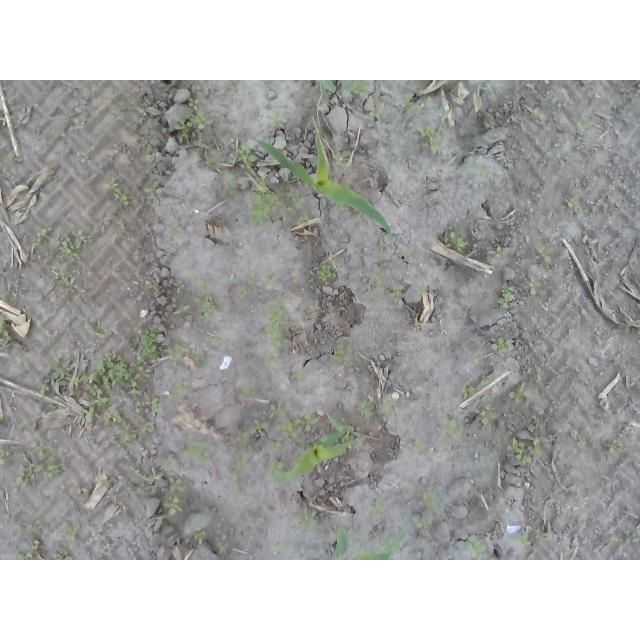Maize: (246, 132, 395, 236), (273, 415, 351, 485), (332, 526, 409, 560), (314, 80, 338, 92)
Weeds: (84, 348, 160, 444), (247, 174, 311, 234), (16, 439, 66, 487), (172, 271, 219, 321), (268, 401, 313, 452), (265, 290, 292, 367), (365, 263, 408, 305), (173, 96, 208, 144), (127, 321, 164, 365), (48, 354, 84, 394), (503, 432, 546, 464), (16, 517, 44, 560), (55, 230, 90, 262), (162, 477, 185, 523), (235, 419, 269, 446), (102, 174, 129, 207), (182, 437, 211, 466), (417, 125, 443, 156), (565, 118, 592, 146), (228, 454, 255, 482), (55, 269, 82, 296), (441, 230, 471, 254), (165, 341, 191, 368), (401, 93, 436, 113), (440, 418, 464, 447), (293, 506, 322, 530), (129, 463, 162, 482), (327, 342, 353, 366), (464, 533, 491, 556), (239, 142, 257, 176), (212, 517, 228, 554), (318, 255, 338, 282), (496, 279, 514, 309), (487, 335, 515, 354), (567, 197, 590, 220), (184, 527, 208, 549), (474, 404, 499, 425), (526, 271, 544, 297), (510, 381, 531, 403), (0, 313, 14, 345), (32, 223, 49, 249), (236, 381, 258, 401), (420, 491, 440, 512), (267, 111, 289, 130), (346, 80, 370, 97), (169, 380, 189, 400), (64, 523, 81, 546), (359, 399, 377, 420), (486, 246, 515, 259), (143, 179, 166, 195), (72, 479, 91, 498), (200, 153, 224, 168), (606, 439, 626, 457), (583, 422, 602, 440), (367, 501, 385, 520), (333, 149, 351, 168), (538, 246, 555, 266), (159, 453, 177, 470), (120, 96, 138, 113), (225, 172, 240, 192), (271, 459, 290, 474), (512, 531, 532, 545), (368, 105, 385, 121), (415, 193, 433, 208), (382, 394, 394, 415), (292, 366, 308, 381), (439, 104, 454, 120), (415, 438, 429, 455), (70, 116, 88, 129), (127, 486, 145, 499), (533, 107, 546, 125), (404, 247, 417, 265), (50, 550, 73, 560), (168, 226, 185, 239), (536, 532, 553, 545), (1, 446, 12, 466), (534, 367, 546, 385), (265, 270, 280, 284), (463, 383, 476, 399), (234, 287, 250, 300), (377, 239, 386, 262), (46, 126, 57, 144), (39, 376, 50, 394), (87, 327, 106, 337), (624, 322, 638, 335), (247, 271, 257, 289), (143, 143, 153, 161), (101, 536, 114, 549), (576, 491, 592, 501), (194, 351, 210, 361), (482, 118, 495, 130), (631, 527, 640, 544), (271, 542, 287, 551), (479, 165, 490, 178), (418, 520, 433, 529), (623, 90, 634, 102), (558, 150, 570, 161), (576, 439, 588, 450), (472, 352, 482, 365), (535, 418, 546, 429), (5, 151, 16, 162), (562, 547, 574, 557), (215, 334, 225, 346), (608, 535, 618, 546), (630, 375, 640, 386), (309, 303, 321, 312), (567, 285, 577, 295), (0, 115, 8, 126), (494, 162, 503, 171), (120, 224, 129, 232), (11, 416, 18, 425)
